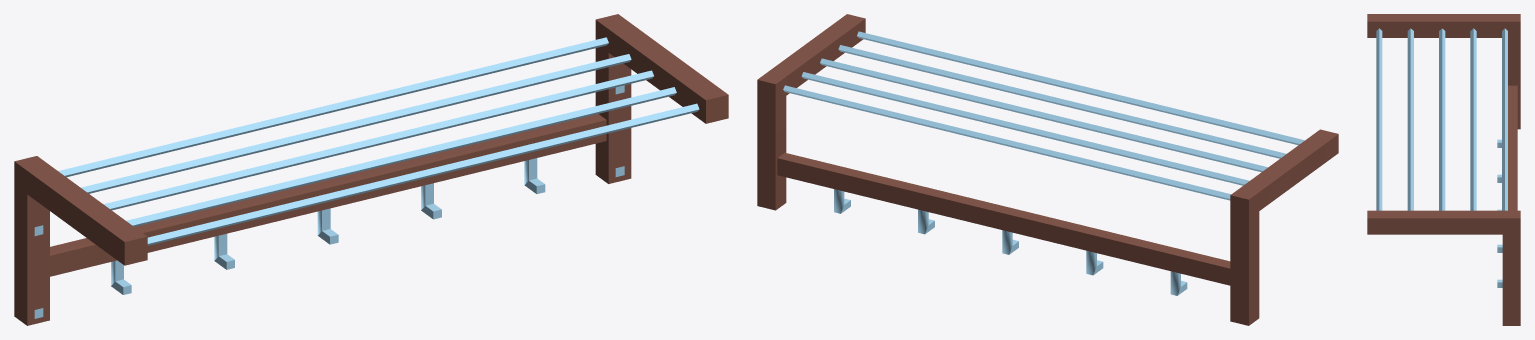
Rendered from shelf_041.glb.
3 views of the same model, side by side, from view 1: azimuth 30°, elevation 25°; view 2: azimuth 150°, elevation 25°; view 3: azimuth 270°, elevation 25° (orthographic). The views are drawn at different scales.
Parts seen in each view (by area): view 1: shelf_041; view 2: shelf_041; view 3: shelf_041.
Boxes of the visible parts, x1,y1,x2,y2 form: shelf_041: (14, 14, 728, 325); shelf_041: (757, 14, 1338, 325); shelf_041: (1367, 14, 1520, 325).
Size of the model in its own units: 0.8884 by 0.218 by 0.2813.
Materials: 1 (1 with a texture image).
